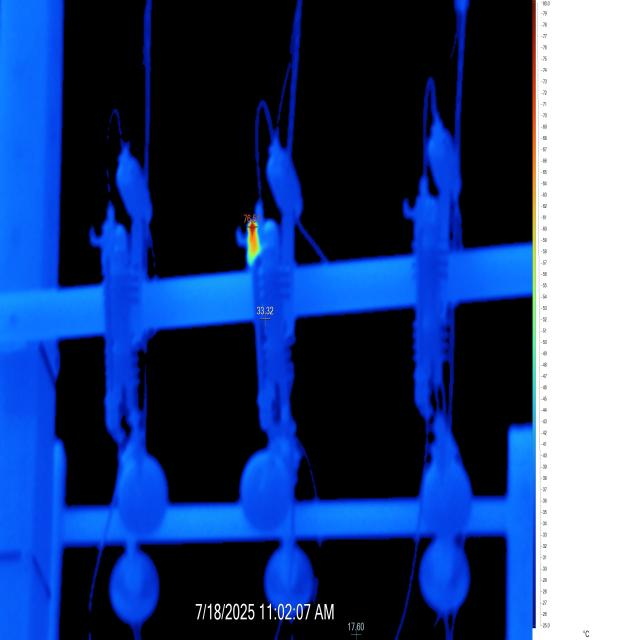Transformer: (55, 0, 497, 640)
